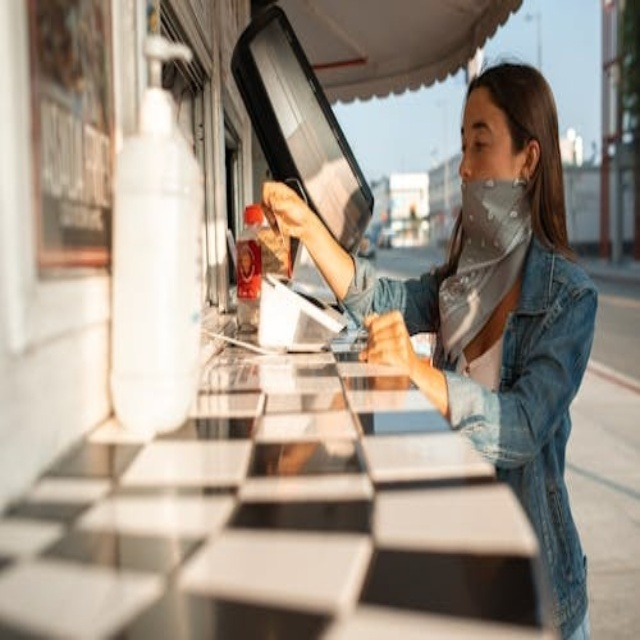Mascara: (437, 174, 535, 364)
Sin_gafas: (454, 115, 511, 156)
Sin_guantes: (352, 298, 421, 382), (252, 169, 320, 250)
